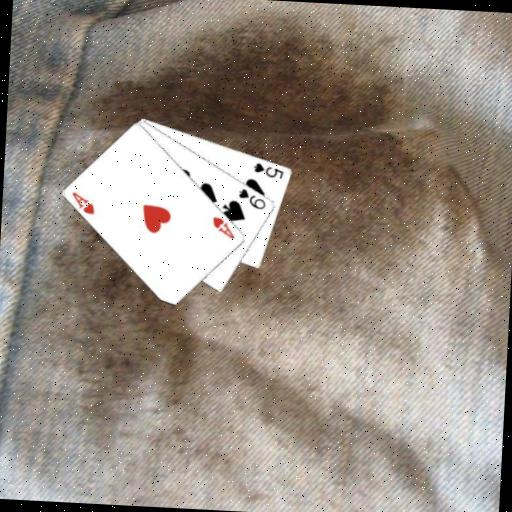5S: (251, 159, 286, 181)
9S: (235, 185, 268, 211)
AH: (209, 213, 238, 241), (68, 189, 97, 217)
